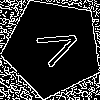V: (28, 23, 83, 72)
